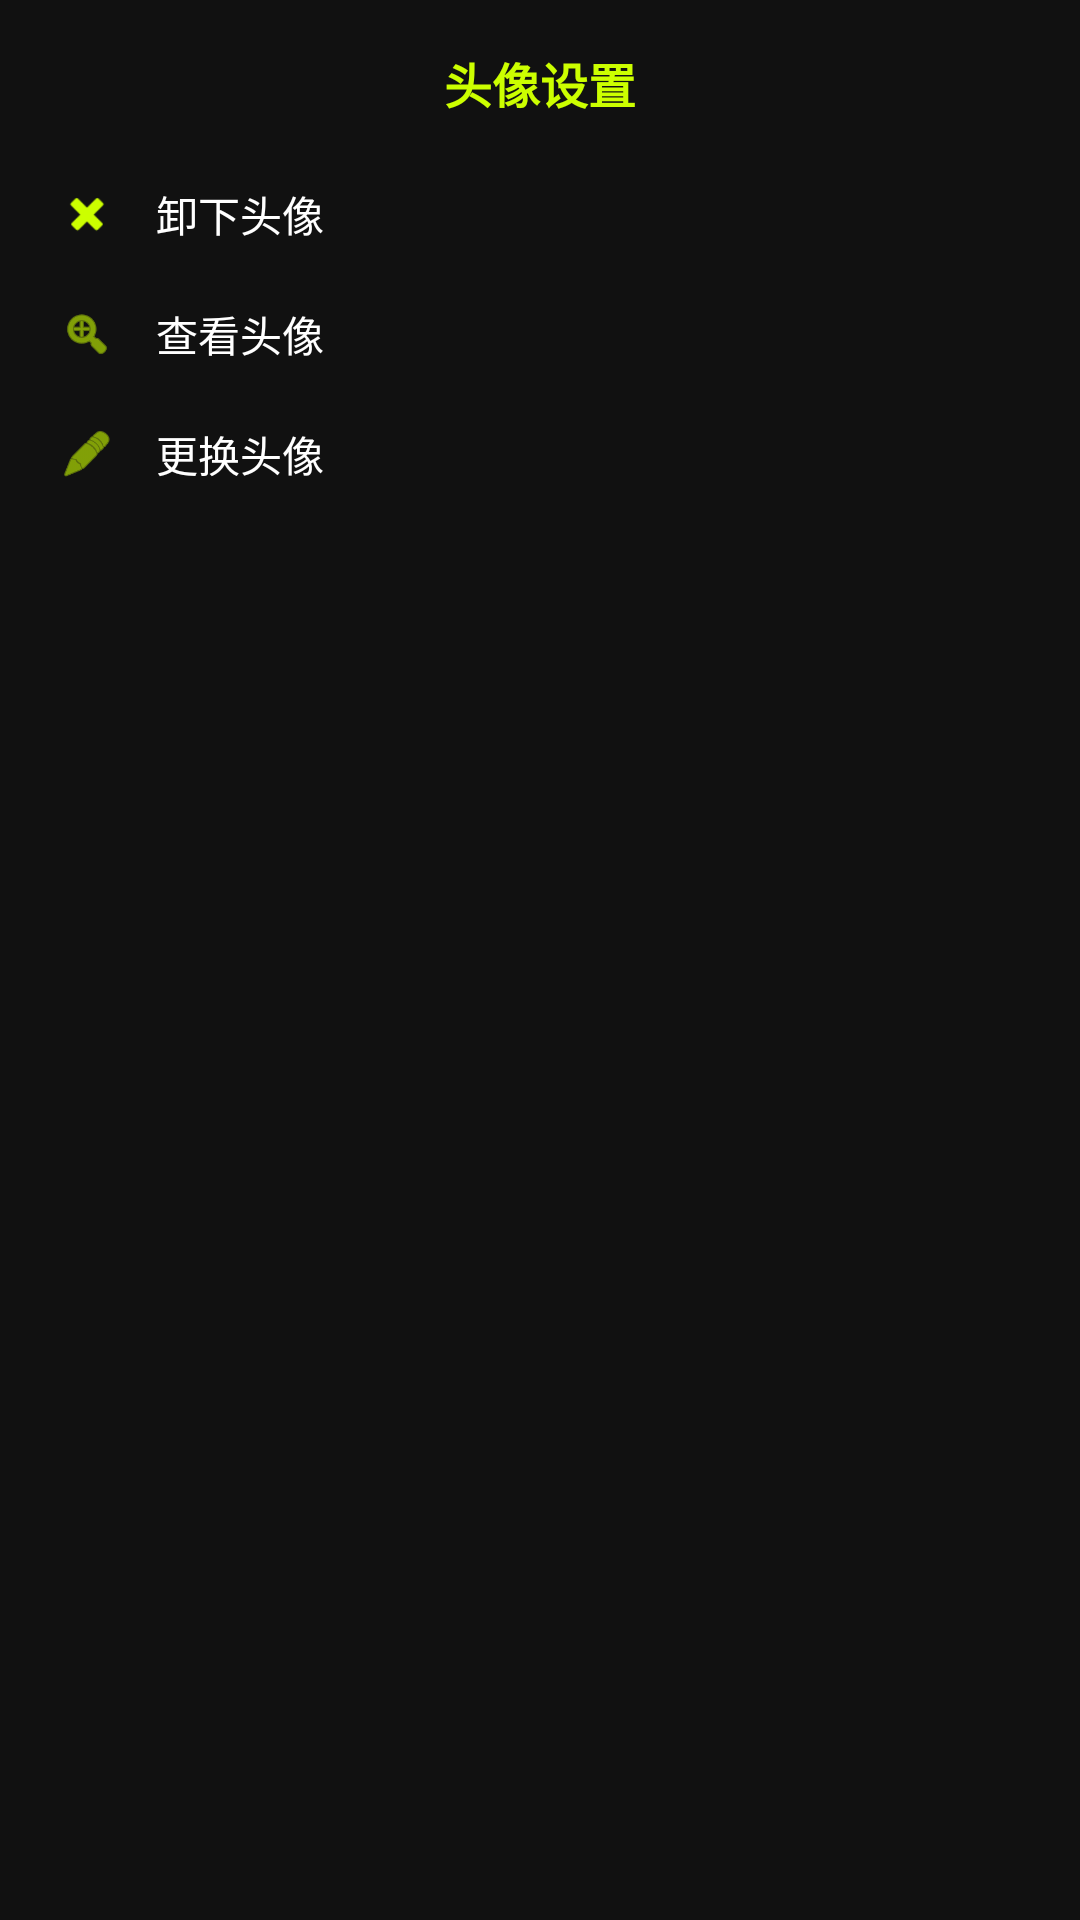

Screen size 1080x1920. Icon name, then its center in pixels as (x,y):
delete: (87,214)
edit: (87,453)
zoom: (87,334)
